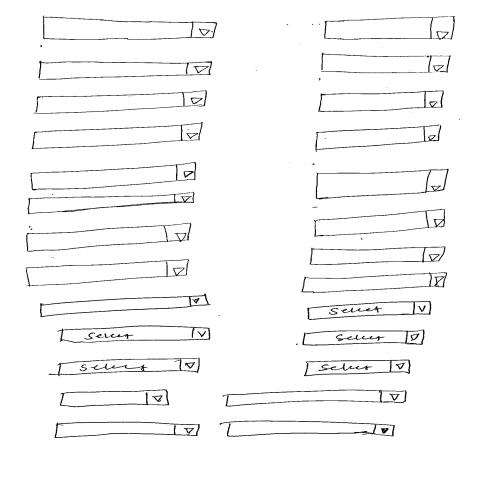Select: (32, 122, 204, 151), (27, 223, 192, 253), (31, 163, 197, 191), (26, 260, 190, 288), (43, 16, 218, 41), (35, 91, 209, 115), (39, 295, 211, 318), (28, 193, 196, 216), (315, 209, 447, 238), (39, 61, 214, 81), (316, 125, 442, 152), (301, 272, 449, 294), (318, 91, 445, 113), (60, 326, 212, 344), (310, 247, 447, 266), (308, 302, 433, 321), (321, 56, 451, 74), (302, 330, 426, 347)
